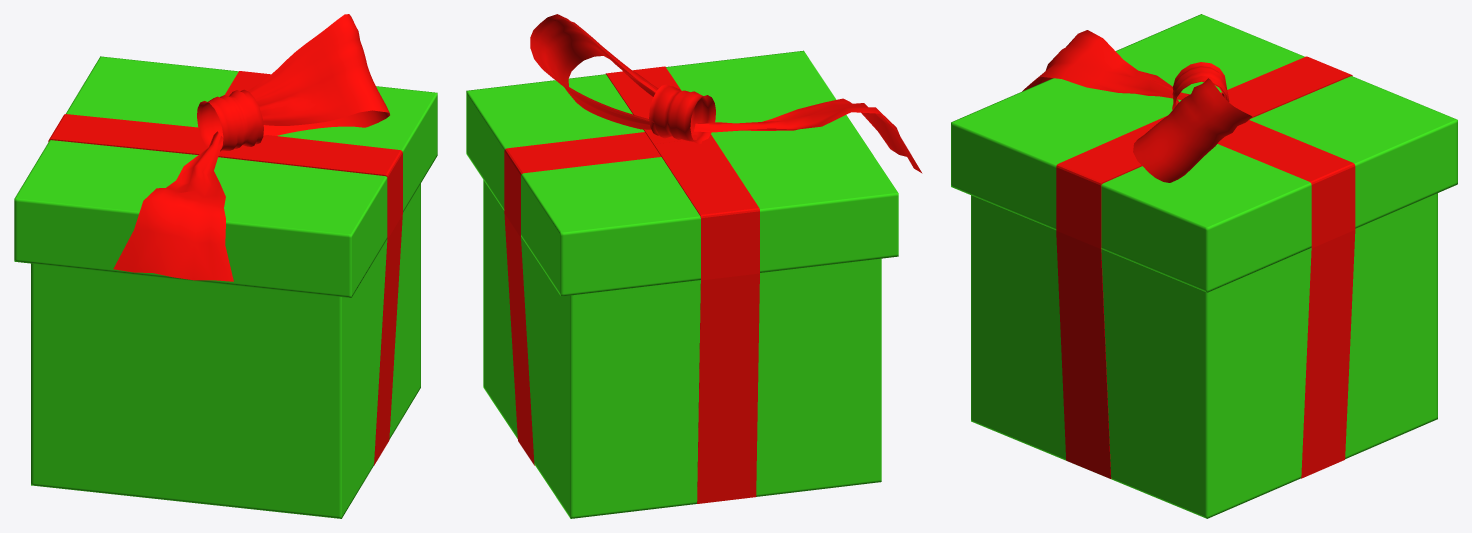
File: Normal_gift.glb
3 views of the same model, side by side, from view 1: azimuth 30°, elevation 25°; view 2: azimuth 150°, elevation 25°; view 3: azimuth 270°, elevation 25° (orthographic). The views are drawn at different scales.
Visible parts, largest first — view 1: Cube.001, Plane.004, Plane.006, Plane.008, Cylinder.001, Plane.001; view 2: Cube.001, Plane.004, Plane.001, Plane.006, Plane.008, Cylinder.001; view 3: Cube.001, Plane.004, Plane.001, Plane.006, Plane.008, Cylinder.001.
Boxes of the visible parts, <box> form: Cube.001: <box>14,56,437,518</box>; Plane.004: <box>48,114,402,465</box>; Plane.006: <box>248,14,389,135</box>; Plane.008: <box>113,131,233,281</box>; Cylinder.001: <box>197,89,263,151</box>; Plane.001: <box>225,71,270,96</box>; Cube.001: <box>466,50,898,518</box>; Plane.004: <box>605,66,759,503</box>; Plane.001: <box>504,132,661,465</box>; Plane.006: <box>530,14,658,129</box>; Plane.008: <box>694,98,922,173</box>; Cylinder.001: <box>649,84,715,144</box>; Cube.001: <box>951,14,1457,518</box>; Plane.004: <box>1056,56,1352,478</box>; Plane.001: <box>1217,120,1355,478</box>; Plane.006: <box>1133,78,1252,182</box>; Plane.008: <box>1022,30,1189,99</box>; Cylinder.001: <box>1172,62,1229,110</box>.
Size of the model in its own units: 3.07 by 2.69 by 3.07.
